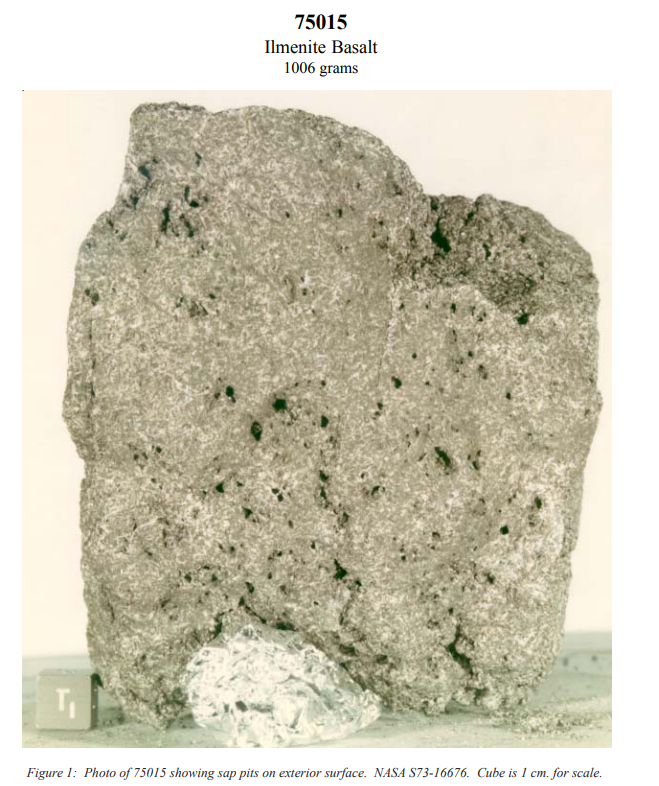Basalt: (41, 98, 611, 735), (134, 216, 505, 655)
